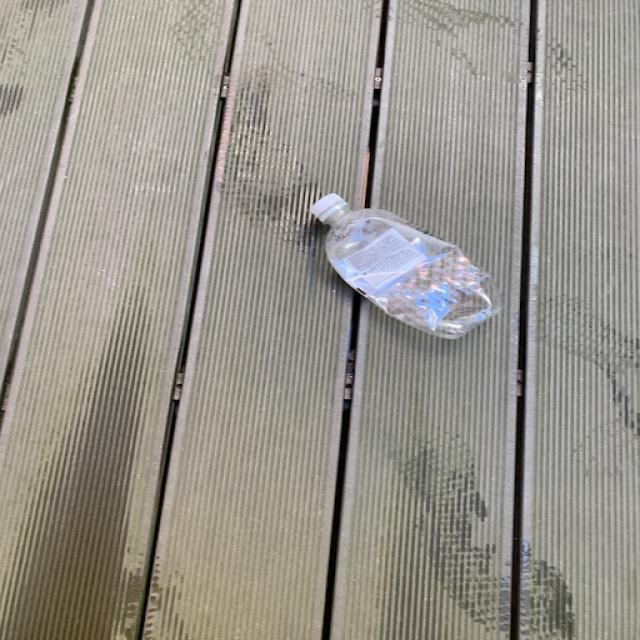litter: (311, 193, 504, 342)
